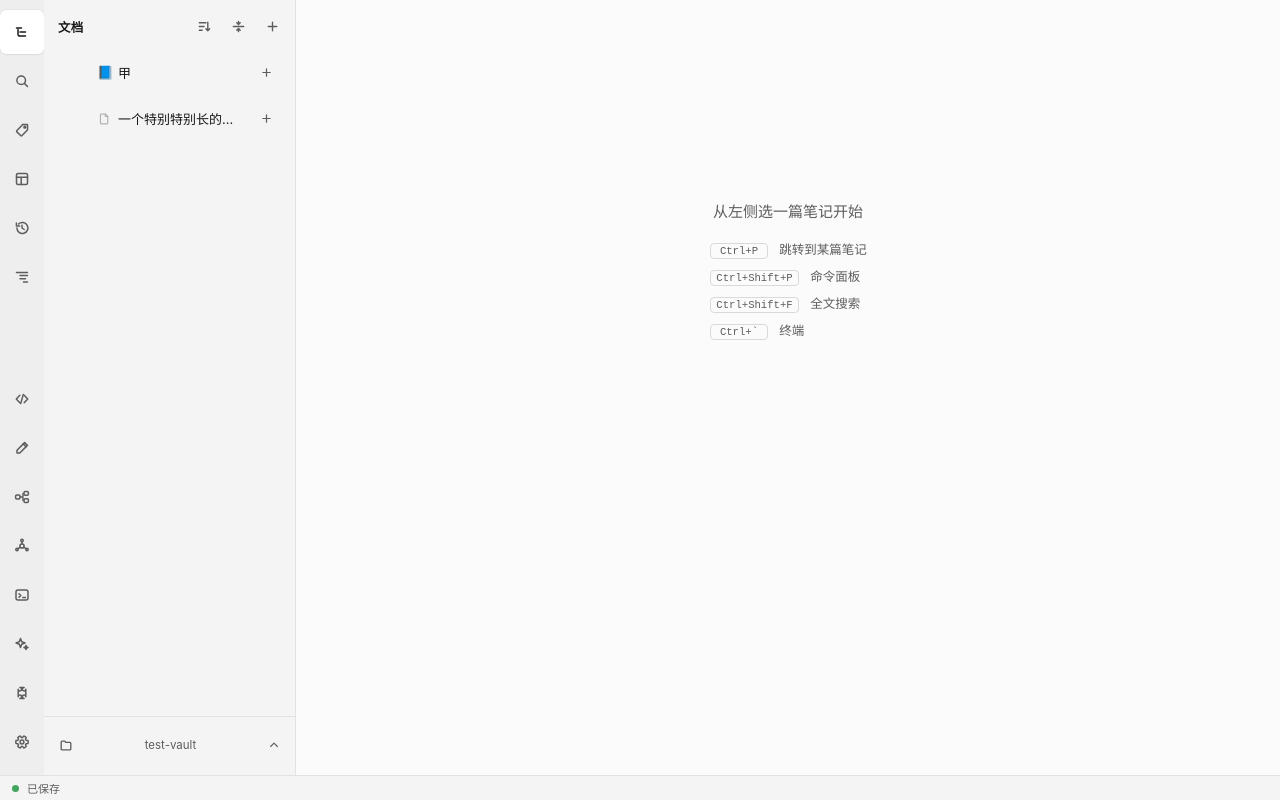
Test: 文档图标 › 再选一次是换图标；「去掉图标」把这个字段删掉
Right-click the element with class "tree-row" showing "📘 甲" at (188, 72), box x1=94 y1=50 x2=282 y2=94
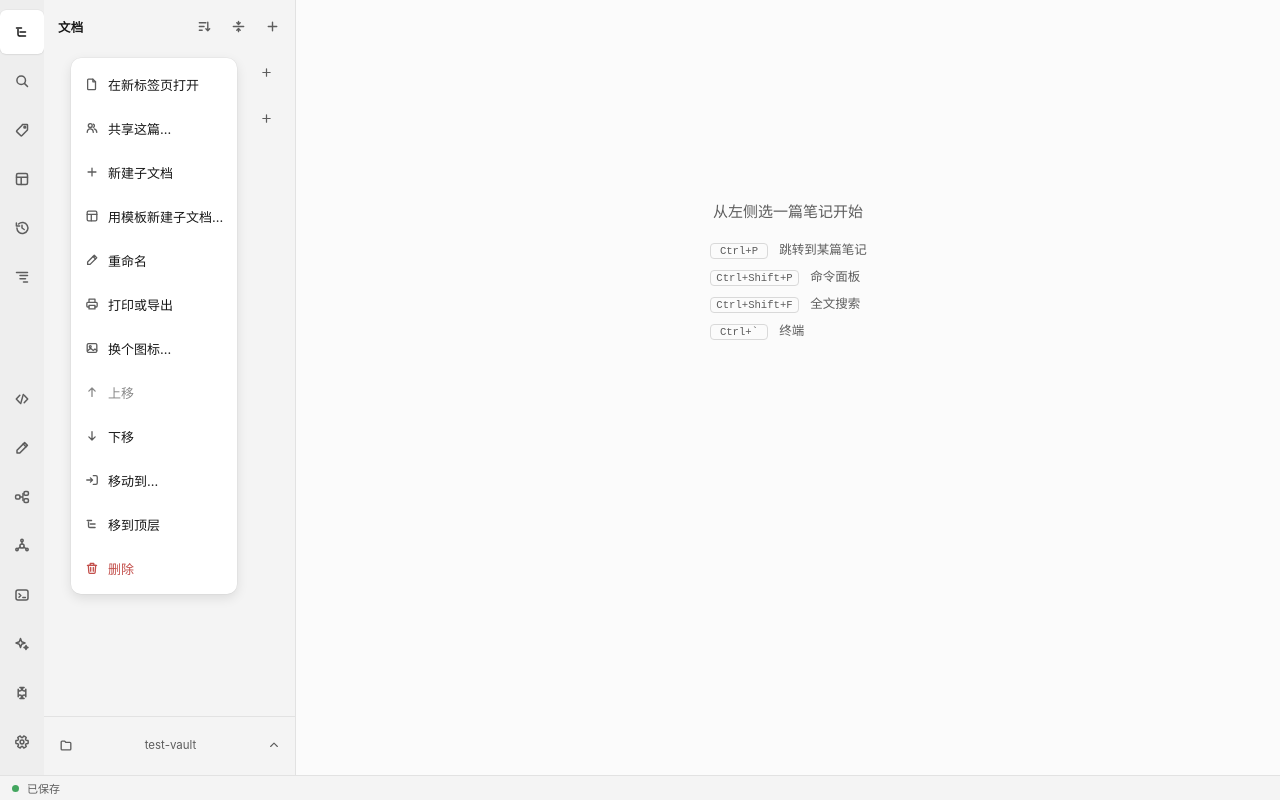
Click the button "换个图标…". click: (154, 348)
box: x1=75 y1=326 x2=233 y2=370
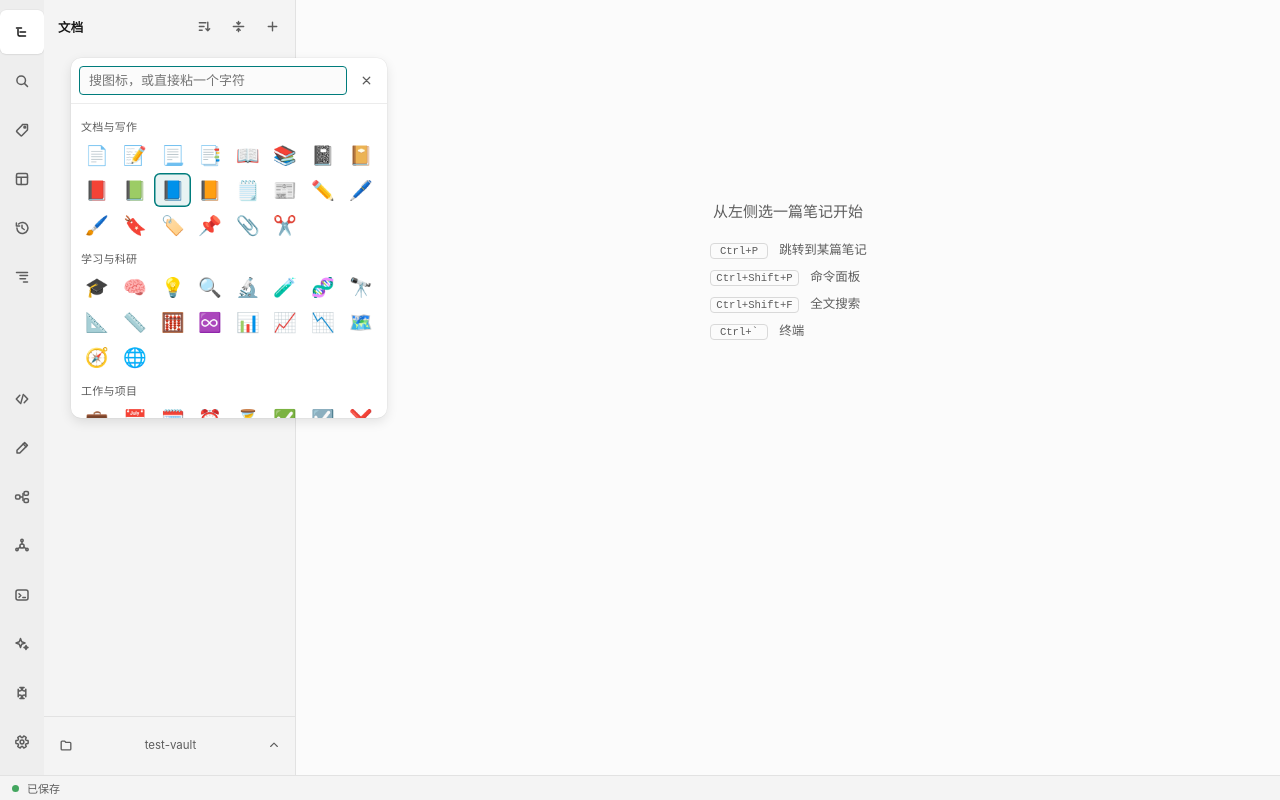
Check: the button with class "is-current" reads "📘", box x1=154 y1=173 x2=191 y2=207
Click the button with class "icon-clear". click: (366, 80)
box: x1=353 y1=68 x2=379 y2=94
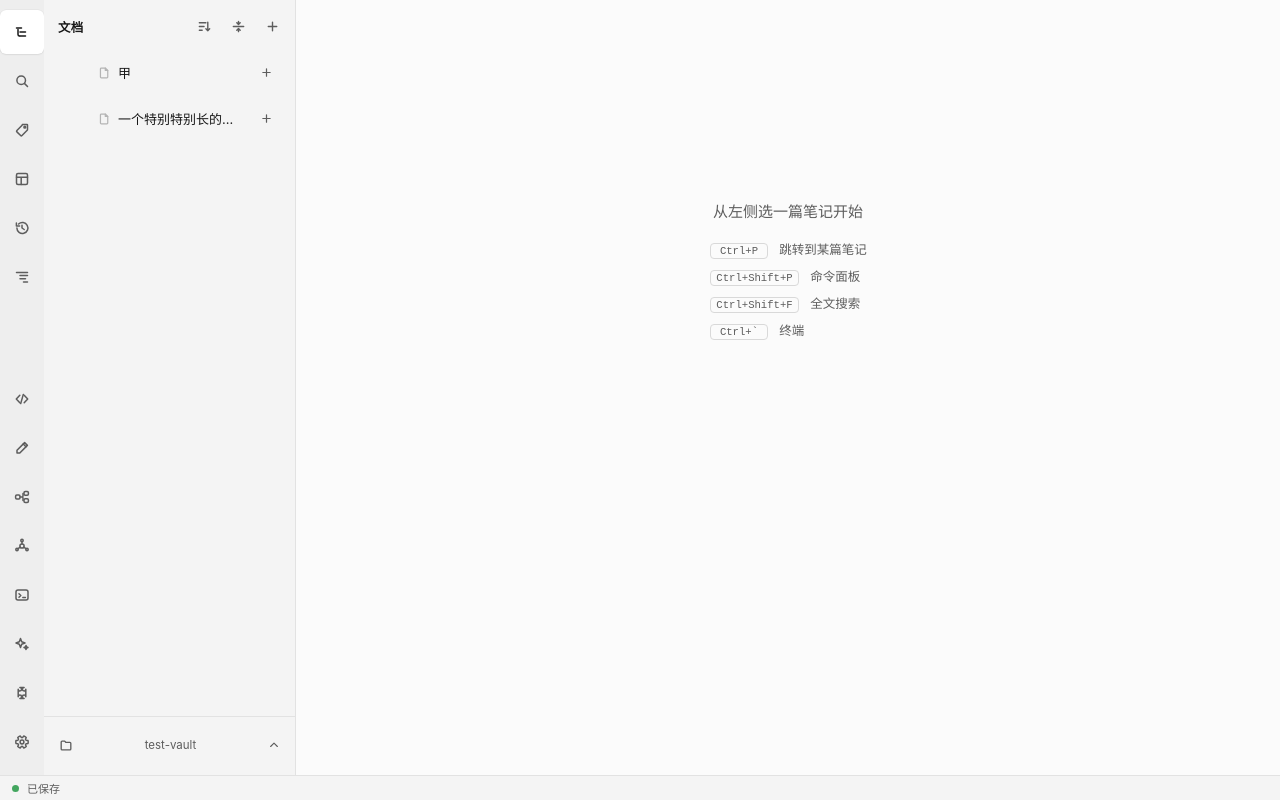
Check: the 1st icon with class "is-default" is shown, box x1=98 y1=66 x2=111 y2=78
